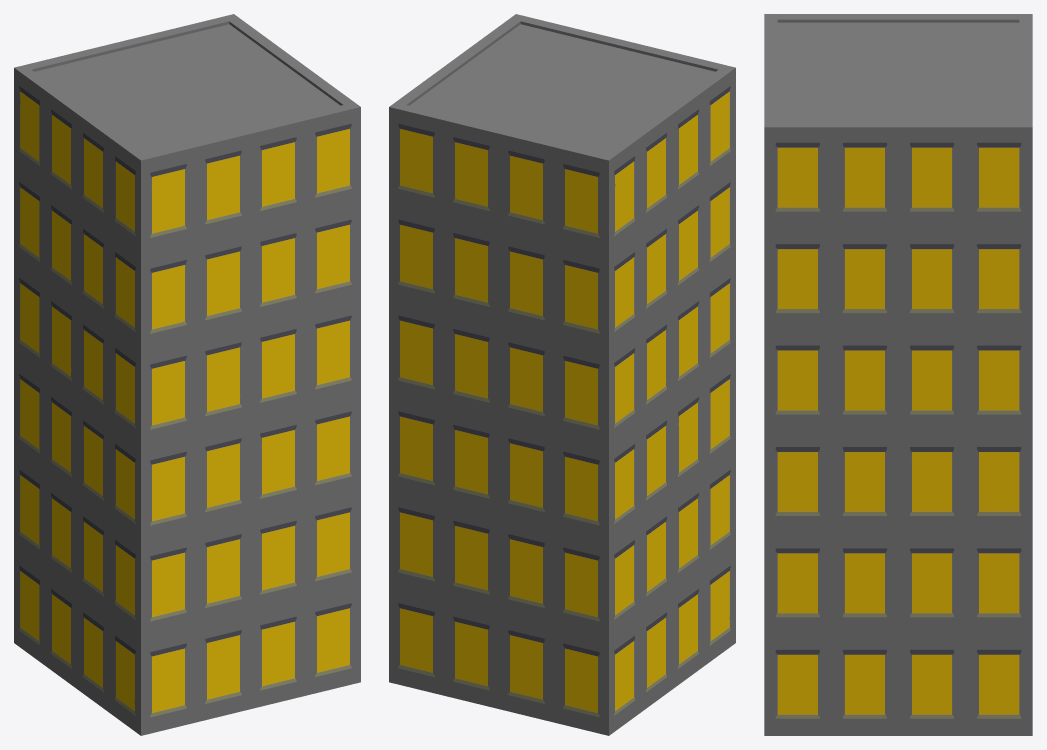
File: City.fbx
The picture shows the model from 3 angles, left to right: view 1: azimuth 30°, elevation 25°; view 2: azimuth 150°, elevation 25°; view 3: azimuth 270°, elevation 25°; orthographic projection. The views are drawn at different scales.
Parts seen in each view (by area): view 1: Cube; view 2: Cube; view 3: Cube.
Part boxes in pixels (x1=…): Cube: x1=14, y1=14, x2=360, y2=735; Cube: x1=389, y1=14, x2=735, y2=735; Cube: x1=764, y1=14, x2=1032, y2=735.
Size of the model in its own units: 2 by 5 by 2.
1 material, 1 textured.
